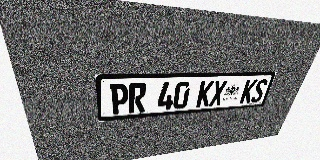0: (172, 81, 191, 109)
4: (157, 82, 176, 111)
K: (196, 81, 215, 107), (239, 79, 258, 104)
P: (110, 83, 129, 115)
R: (129, 83, 147, 113)
S: (250, 79, 269, 103)
X: (209, 80, 228, 106)
